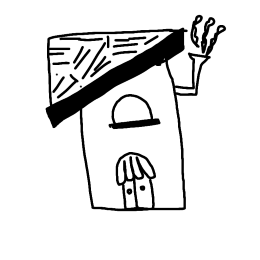door: (110, 147, 164, 214)
open_window: (103, 90, 166, 133)
roof: (22, 16, 187, 84)
smoking_chimney: (168, 9, 230, 107)
wall: (76, 104, 191, 220)
